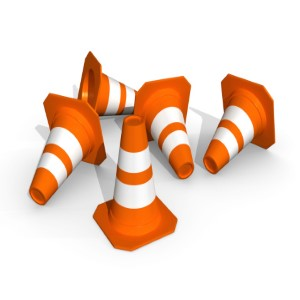traffic cone: (92, 115, 177, 251), (29, 92, 107, 207), (202, 73, 275, 174), (131, 75, 194, 179), (75, 50, 155, 118)
